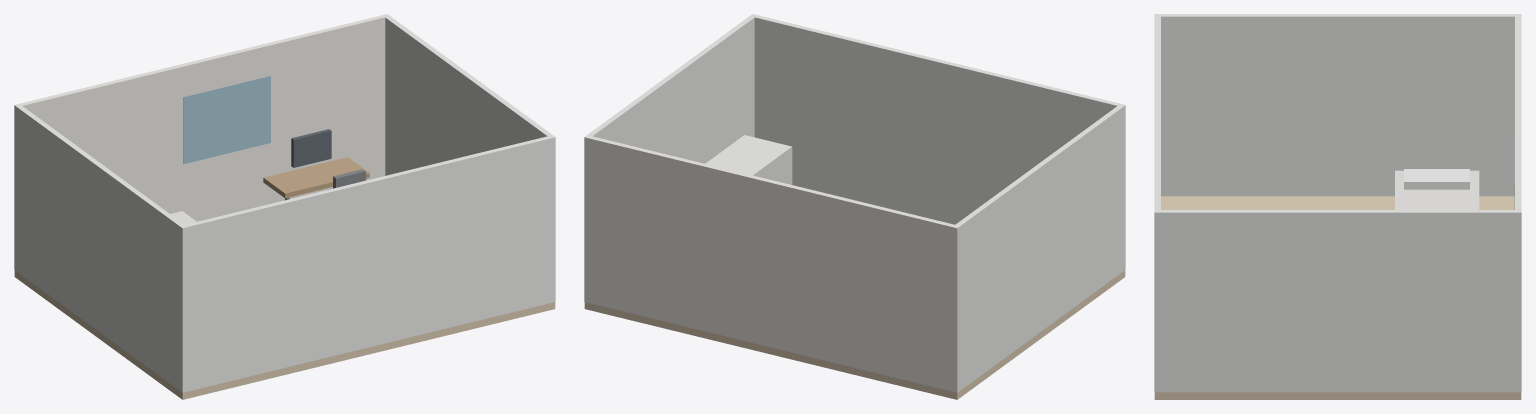
File: INT_Founder_Studio_Blockout.glb
3 renders of one model, left to right at view 1: azimuth 30°, elevation 25°; view 2: azimuth 150°, elevation 25°; view 3: azimuth 270°, elevation 25°, orthographic. The views are drawn at different scales.
Visible parts, largest first — view 1: south_wall_right, north_wall, west_wall, south_wall_left, east_wall, window, floor, desk, monitor; view 2: north_wall, south_wall_right, west_wall, east_wall, south_wall_left, floor, kitchenette; view 3: east_wall, west_wall, floor, bed, north_wall, bed_pillow, south_wall_right, south_wall_left.
Part boxes in pixels (<box>): south_wall_right: <box>296,136,555,364</box>; north_wall: <box>15,14,387,221</box>; west_wall: <box>14,104,186,392</box>; south_wall_left: <box>180,197,299,392</box>; east_wall: <box>383,14,555,175</box>; window: <box>183,76,270,164</box>; floor: <box>14,270,555,399</box>; desk: <box>263,157,369,198</box>; monitor: <box>291,129,331,167</box>; north_wall: <box>584,135,959,392</box>; south_wall_right: <box>750,14,1008,224</box>; west_wall: <box>955,105,1125,392</box>; east_wall: <box>585,14,756,163</box>; south_wall_left: <box>1006,76,1124,187</box>; floor: <box>584,270,1125,399</box>; kitchenette: <box>705,135,792,184</box>; east_wall: <box>1154,210,1521,392</box>; west_wall: <box>1155,14,1521,196</box>; floor: <box>1154,196,1521,399</box>; bed: <box>1395,170,1479,209</box>; north_wall: <box>1515,14,1521,391</box>; bed_pillow: <box>1404,169,1469,189</box>; south_wall_right: <box>1154,76,1160,391</box>; south_wall_left: <box>1154,14,1160,75</box>.
Bounding box in the file's own units: 6.41 × 2.82 × 5.01.
